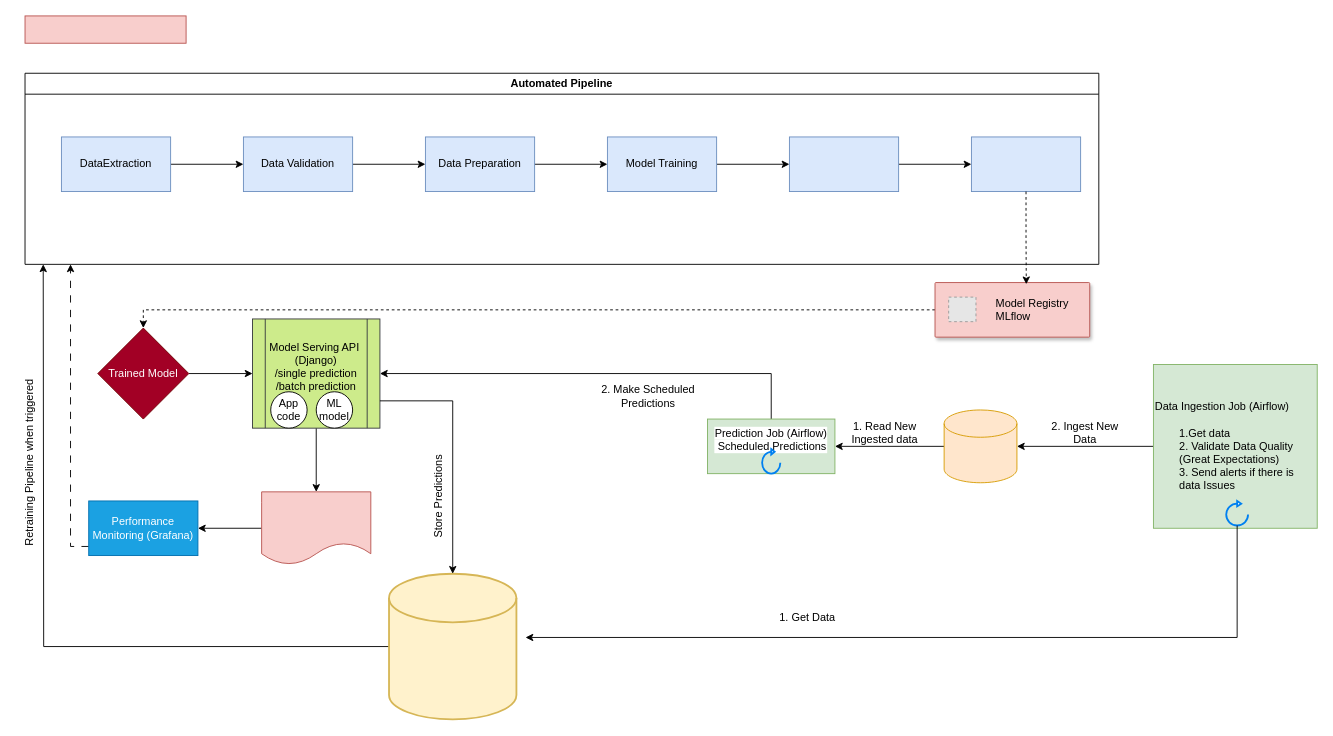
This 1333x736 diagram has some shape labels left out. Grey dashed boxes stand in for pictures. Here are the shapes that lost their labels. From the top down, the centre of each, then its label:
the point at 105,29: HOUSE PRICES WORKFLOW
the point at 844,164: Model Evaluation
the point at 1026,164: Model Validation
the point at 980,446: Storage - Local / DB
the point at 316,528: Prediction Service Web App (Streamlit/Node)
the point at 452,646: Storage with model predictions and newly ingested data for retraining
